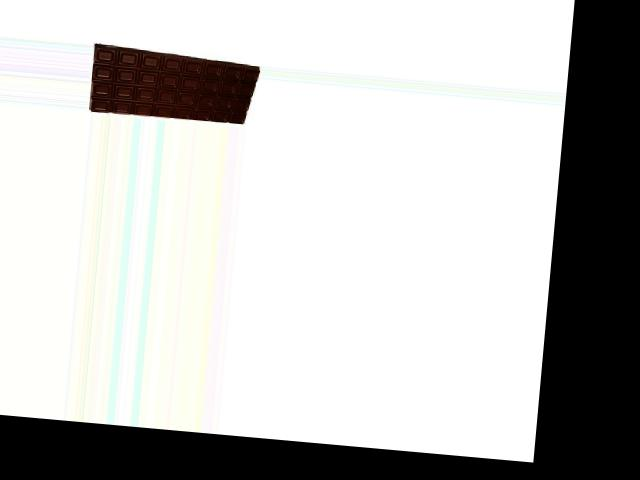chocolate: (87, 45, 262, 126)
